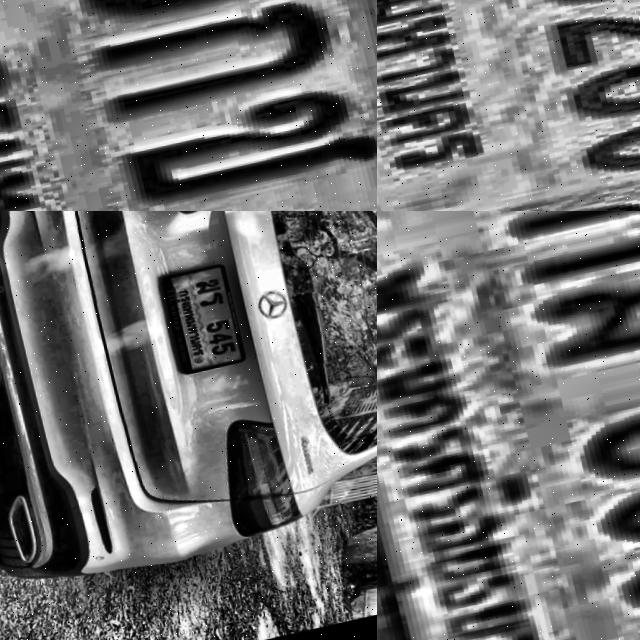license-plate: (377, 211, 640, 640), (0, 0, 377, 211), (377, 0, 640, 211), (151, 267, 242, 385)
